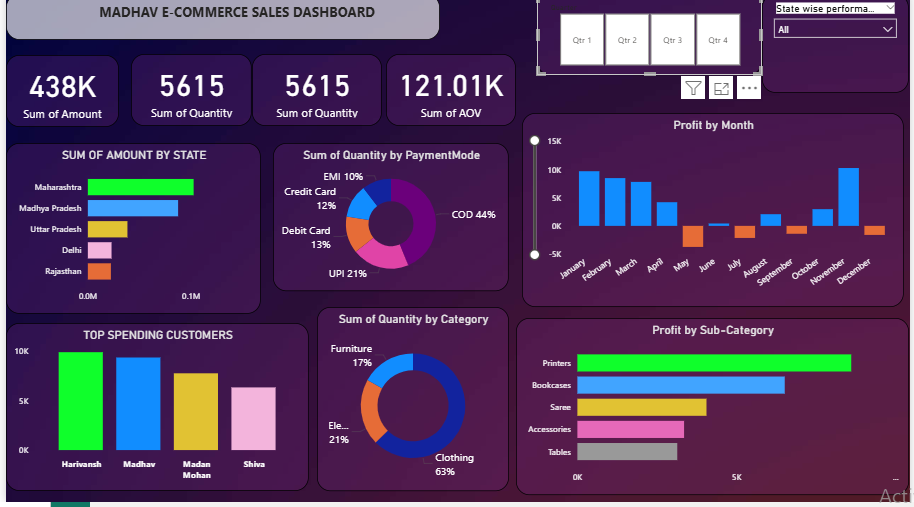

The page's visual inventory and layout, read from the dashboard file:
{"tool":"powerbi","page":{"name":"Page 1","canvas":[1280,720],"ordinal":0},"visuals":[{"type":"columnChart","title":"Profit by Month","fields":{"Category":["Orders (1).Order Date.Variation.Date Hierarchy.Month"],"Y":["Details.Profit"]},"box":[731.3,168.7,541.4,275],"z":0},{"type":"barChart","title":" Profit by Sub-Category","fields":{"Category":["Details.Sub-Category"],"Y":["Details.Profit"]},"box":[722.8,459.2,557,250.9],"z":1000},{"type":"donutChart","fields":{"Category":["Details.Category"],"Y":["Details.Quantity"]},"box":[440.8,443.6,272.1,260.8],"z":2000},{"type":"donutChart","fields":{"Category":["Details.PaymentMode"],"Y":["Details.Quantity"]},"box":[378.4,211.2,334.5,209.8],"z":3000},{"type":"card","fields":{"Values":["Details.Amount"]},"box":[0,86.5,160.2,102],"z":4000},{"type":"card","fields":{"Values":["Details.Quantity"]},"box":[348.7,85,184.3,102],"z":5000},{"type":"card","fields":{"Values":["Details.Quantity"]},"box":[177.2,85,171.5,102],"z":6000},{"type":"card","fields":{"Values":["Details.AOV"]},"box":[538.6,85,184.3,102],"z":7000},{"type":"barChart","title":"SUM OF AMOUNT BY STATE","fields":{"Category":["Orders (1).State"],"Y":["Details.Amount"]},"box":[0,211.2,361.4,242.4],"z":8000},{"type":"columnChart","title":"TOP SPENDING CUSTOMERS","fields":{"Category":["Orders (1).CustomerName"],"Y":["Details.Amount"]},"box":[0,466.3,429.4,238.1],"z":9000},{"type":"textbox","box":[0,0,615.1,65.2],"z":10000},{"type":"slicer","fields":{"Values":["Orders (1).Order Date.Variation.Date Hierarchy.Quarter"]},"box":[752.6,0,318.9,114.8],"z":11000},{"type":"slicer","fields":{"Values":["Orders (1).State"]},"box":[1071.5,0,208.3,140.3],"z":12000}]}

Visuals, with their boxes in screenshot pixels (x1, y1, x2, y2), scaled from the page's 1280x720 canvas onto the 914x507 screenshot:
"Profit by Month" columnChart: x1=522, y1=119, x2=909, y2=312
" Profit by Sub-Category" barChart: x1=516, y1=323, x2=913, y2=500
donutChart - Details.Category x Details.Quantity: x1=315, y1=312, x2=509, y2=496
donutChart - Details.PaymentMode x Details.Quantity: x1=270, y1=149, x2=509, y2=296
card - Details.Amount: x1=0, y1=61, x2=114, y2=133
card - Details.Quantity: x1=249, y1=60, x2=381, y2=132
card - Details.Quantity: x1=127, y1=60, x2=249, y2=132
card - Details.AOV: x1=385, y1=60, x2=516, y2=132
"SUM OF AMOUNT BY STATE" barChart: x1=0, y1=149, x2=258, y2=319
"TOP SPENDING CUSTOMERS" columnChart: x1=0, y1=328, x2=307, y2=496
textbox: x1=0, y1=0, x2=439, y2=46
slicer - Orders (1).Order Date.Variation.Date Hierarchy.Quarter: x1=537, y1=0, x2=765, y2=81
slicer - Orders (1).State: x1=765, y1=0, x2=913, y2=99
